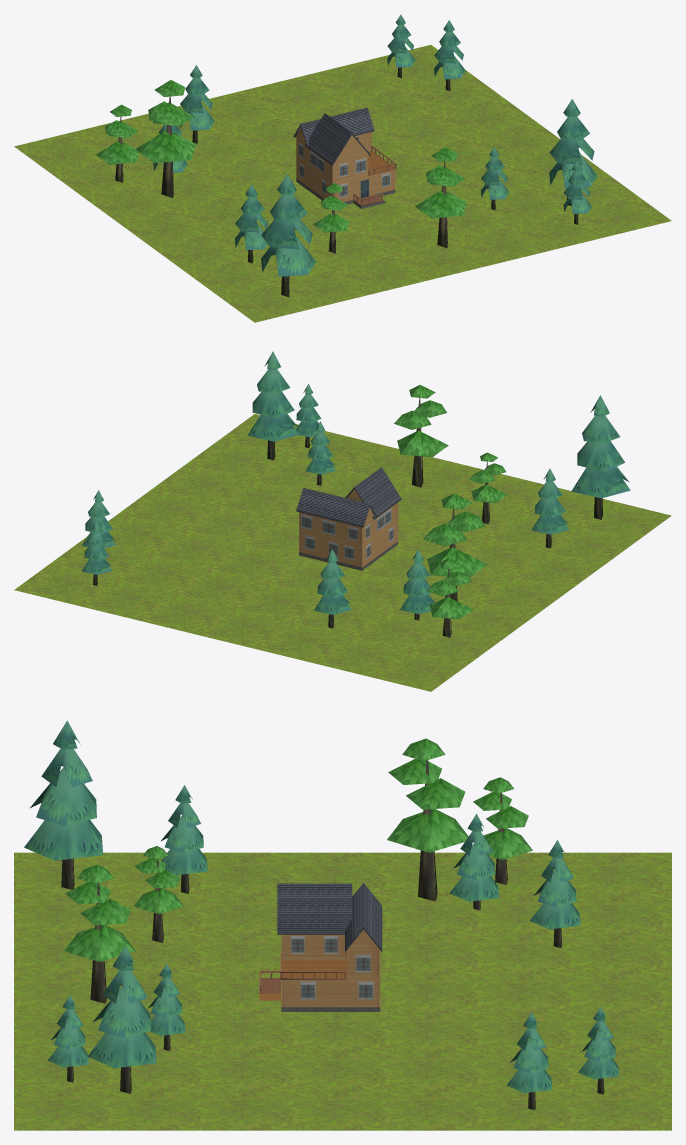
The model's file is zhuzhai_danshengongyu01_lod.FBX.
3 views of the same model, one above another, from view 1: azimuth 30°, elevation 25°; view 2: azimuth 150°, elevation 25°; view 3: azimuth 270°, elevation 25° (orthographic). The views are drawn at different scales.
Visible parts, largest first — view 1: caodi, shu, zhuzhai_danshengongyu01_lod; view 2: caodi, shu, zhuzhai_danshengongyu01_lod; view 3: caodi, shu, zhuzhai_danshengongyu01_lod.
Boxes of the visible parts, left/top/right/bottom form: caodi: left=14, top=45, right=671, bottom=322; shu: left=96, top=14, right=597, bottom=297; zhuzhai_danshengongyu01_lod: left=293, top=107, right=396, bottom=208; caodi: left=14, top=414, right=671, bottom=691; shu: left=81, top=351, right=630, bottom=637; zhuzhai_danshengongyu01_lod: left=296, top=467, right=401, bottom=570; caodi: left=14, top=852, right=671, bottom=1130; shu: left=24, top=720, right=618, bottom=1109; zhuzhai_danshengongyu01_lod: left=259, top=883, right=382, bottom=1011.
Size of the model in its own units: 6400 by 1902 by 6400.
